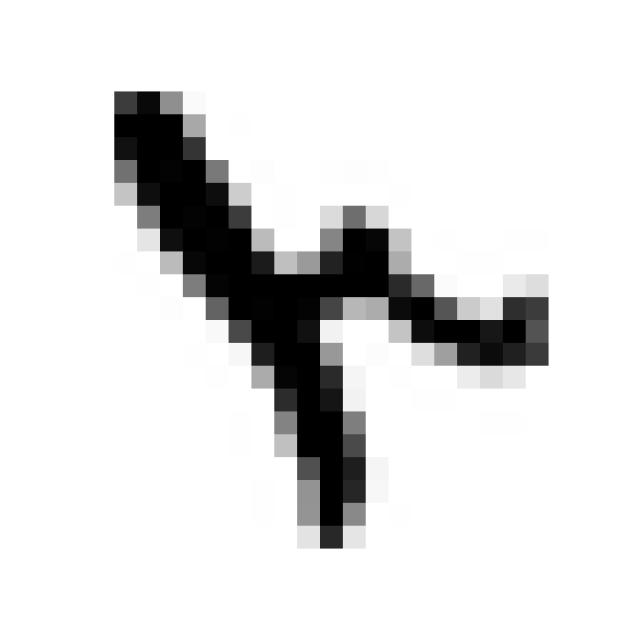3 -three-: (85, 62, 566, 564)
